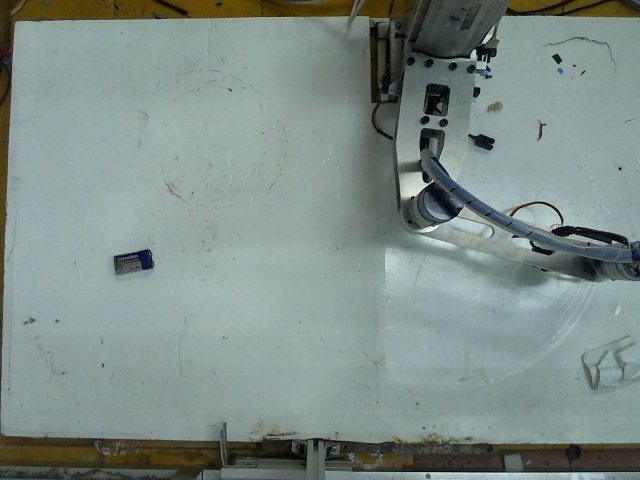battery: (107, 245, 155, 277)
